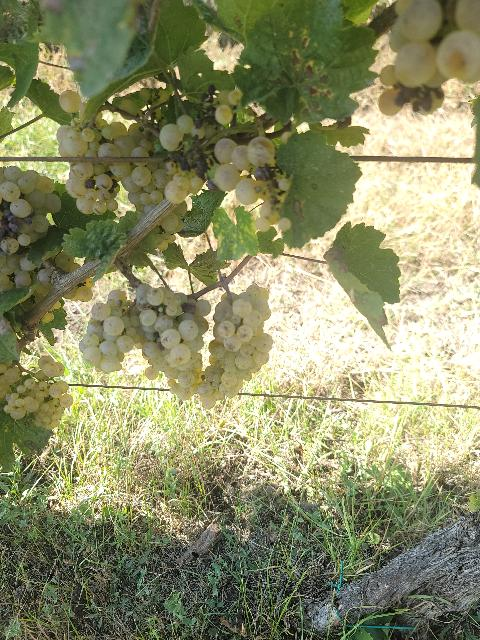grapes: (196, 284, 272, 409), (130, 284, 211, 400), (56, 90, 130, 215), (0, 166, 61, 291), (0, 355, 74, 430), (80, 290, 140, 374)
